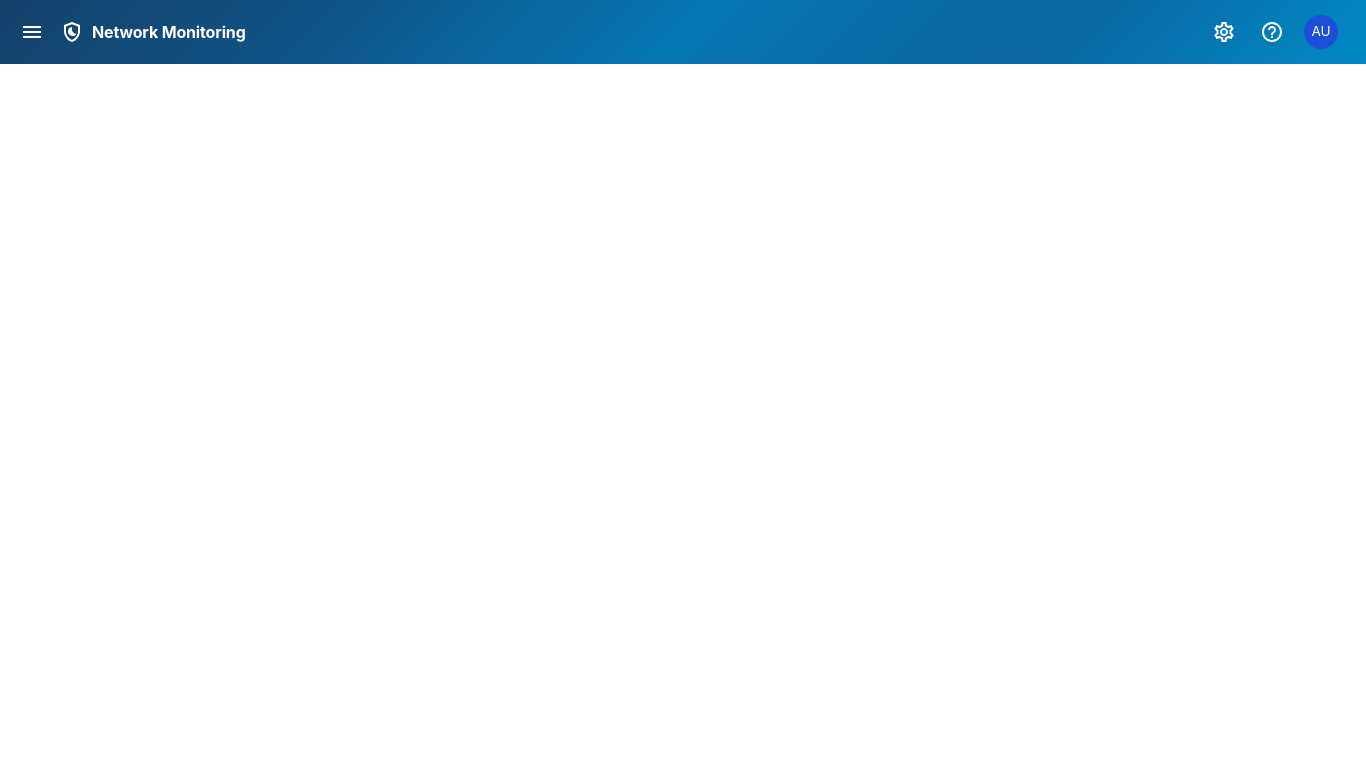
Test: AppLayout across the md breakpoint › still opens the drawer on demand after the round trip
Click the button named "open navigation": coordinates (32, 32) 12,12 -> 52,52
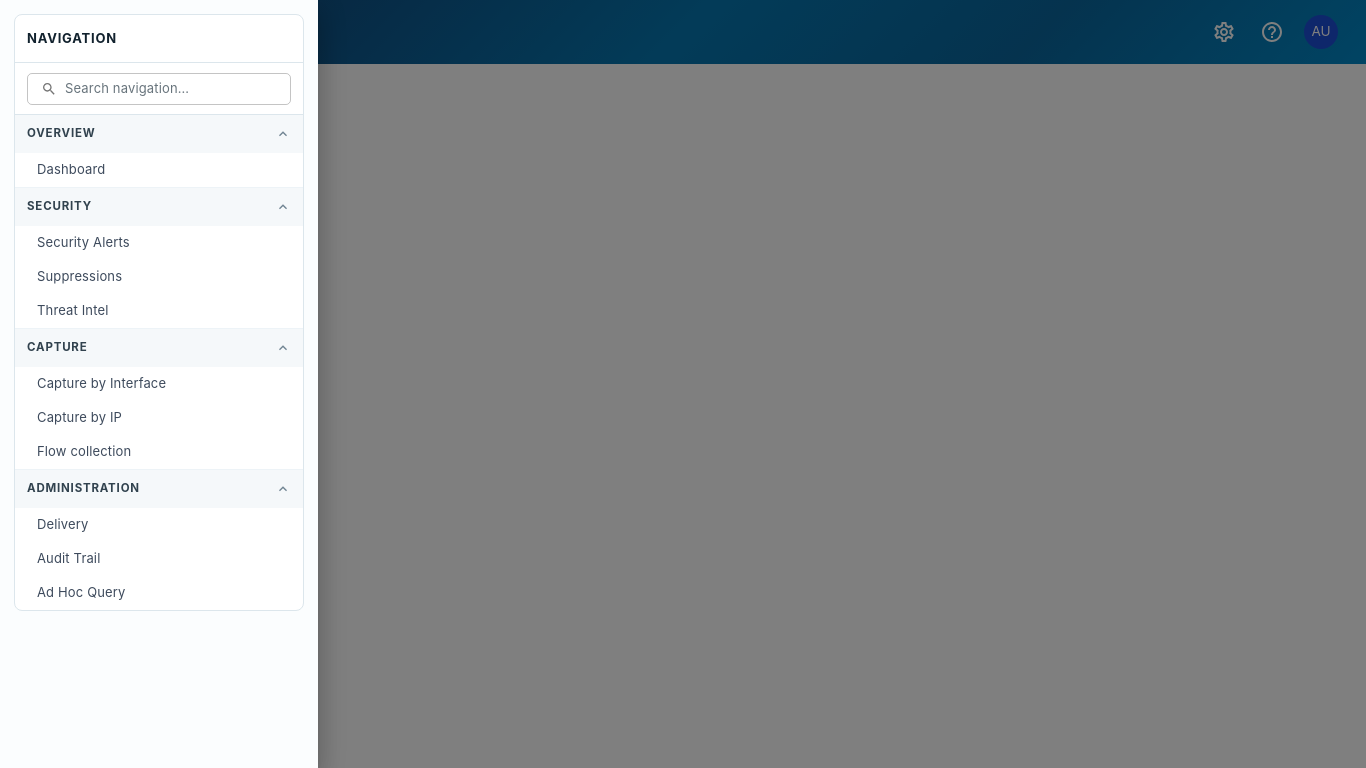
Expected: the navigation bar named "main" is shown, 14,14 -> 304,611
